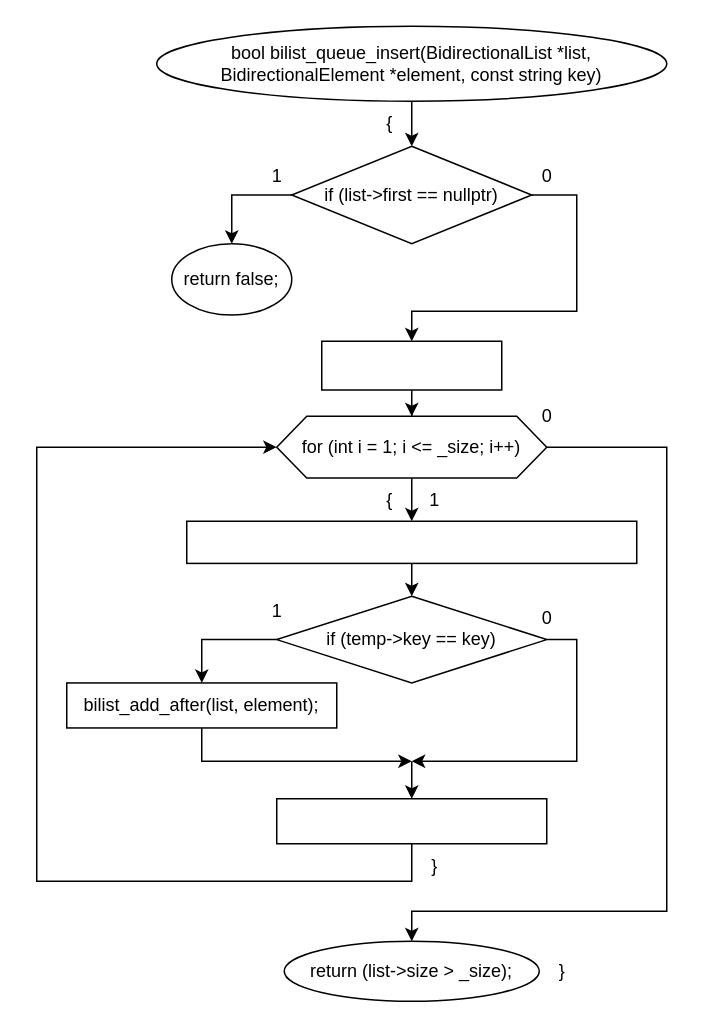
This 705x1028 diagram has some shape labels left out. The centre of each missing label's shape, as x and y in pixels:
"BidirectionalElement *temp = bilist_pop_first(list);" belongs at pixel 411 541.
"int _size = list->size;" belongs at pixel 411 365.
"unilist_add_after(list, temp);" belongs at pixel 411 820.
